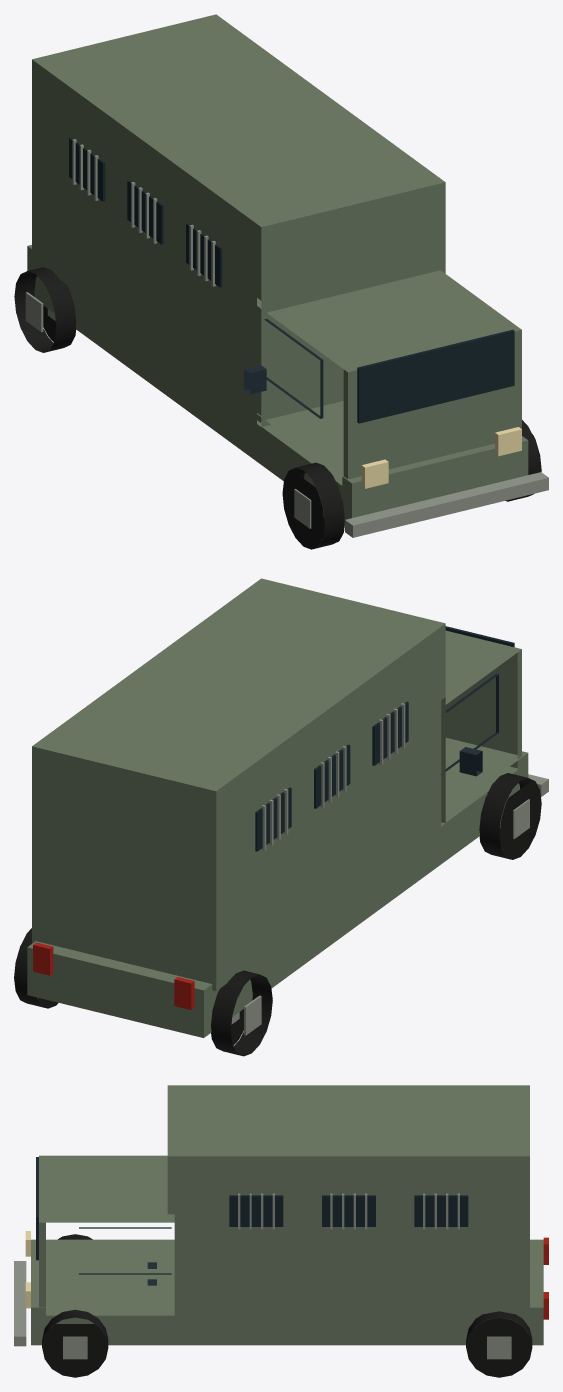
File: guardvan-body.glb
3 renders of one model, top to bottom at view 1: azimuth 30°, elevation 25°; view 2: azimuth 150°, elevation 25°; view 3: azimuth 270°, elevation 25°, orthographic. The views are drawn at different scales.
Bounding box in the file's own units: 2.75 × 3.08 × 6.94.
Materials: 1 (1 with a texture image).
